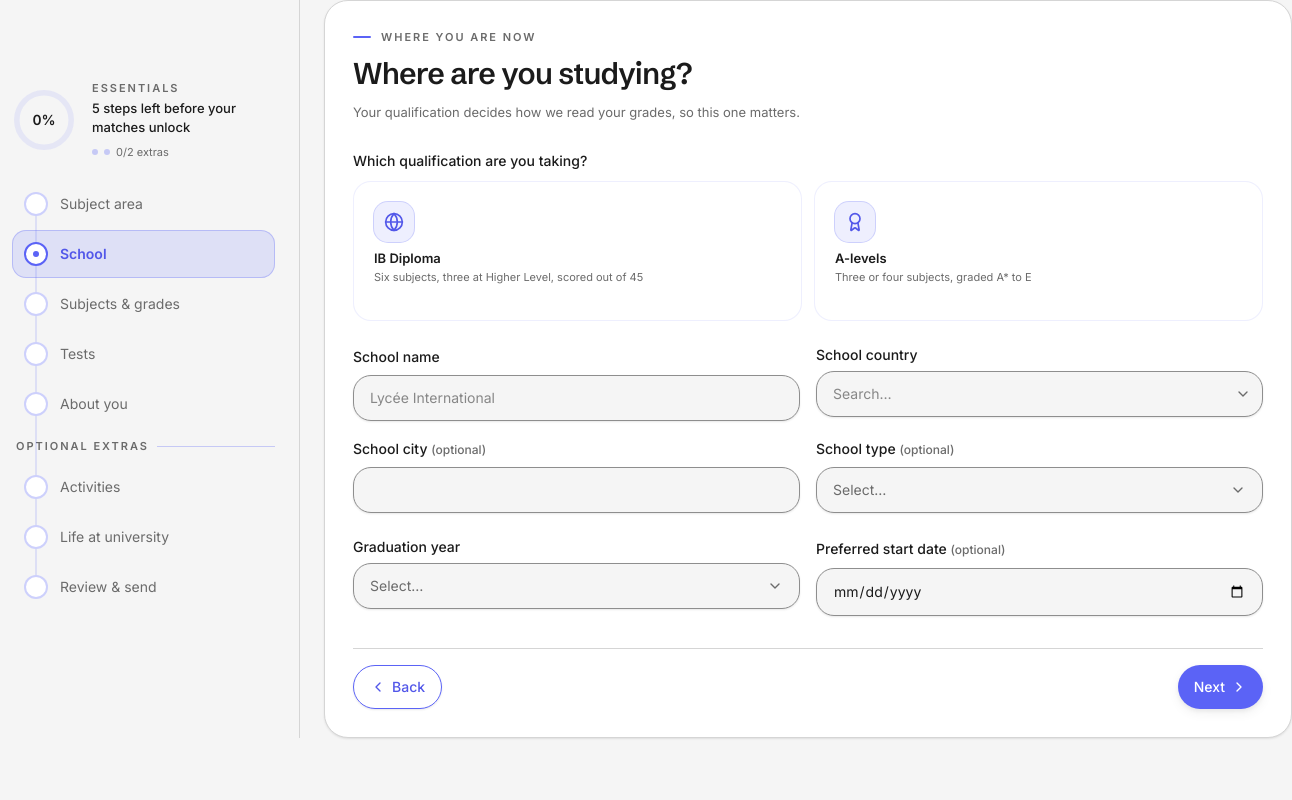
Test: step navigation › gates the SCHOOL screen on programme type, school, country and graduation year
Step 1. Click the button "Next" → (1220, 687), box [1178, 665, 1263, 709]
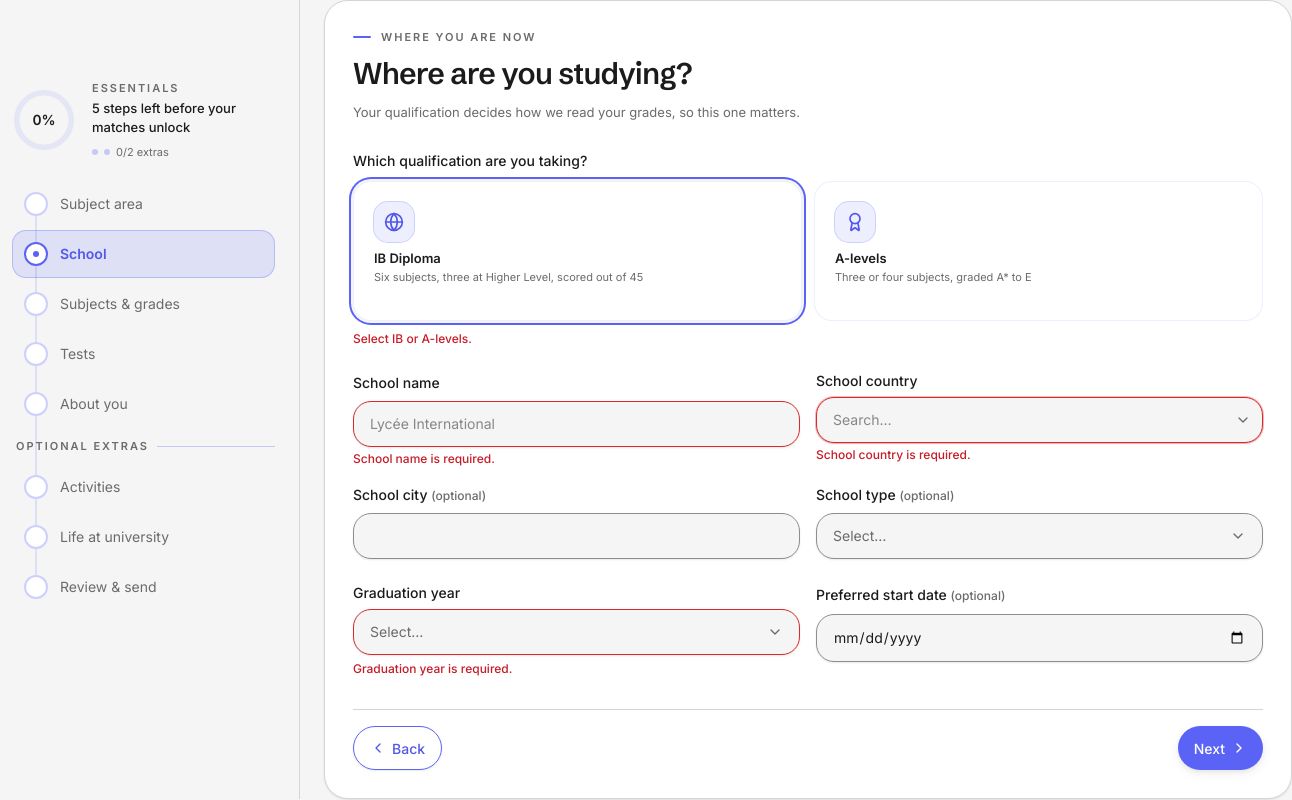
Expected: the text "Select IB or A-levels." is shown, [353, 331, 472, 346]
Expected: the text "School name is required." is shown, [353, 451, 495, 466]
Expected: the text "School country is required." is shown, [816, 447, 971, 462]
